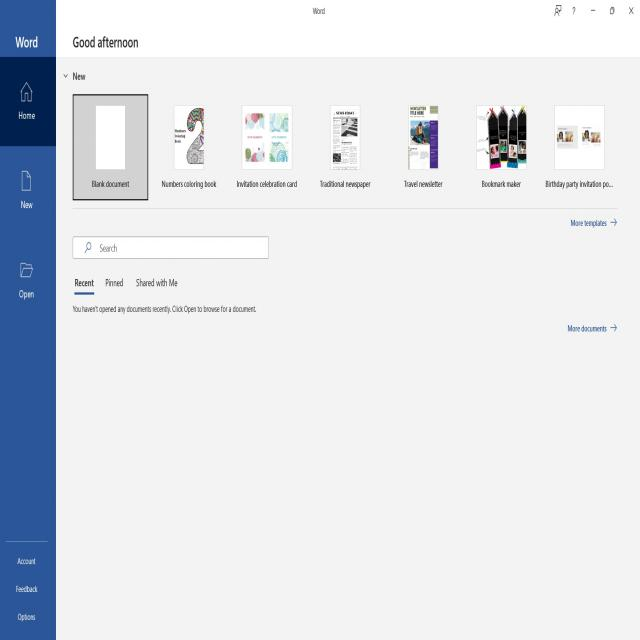button: (540, 92, 622, 200), (309, 94, 389, 201), (460, 92, 538, 201), (73, 92, 148, 200), (152, 94, 228, 200), (233, 94, 307, 200), (391, 91, 460, 200), (0, 236, 55, 336), (0, 56, 56, 146), (0, 146, 55, 236), (1, 572, 56, 603), (1, 542, 56, 573), (1, 603, 57, 629), (134, 271, 182, 294), (60, 61, 94, 87), (100, 271, 130, 294), (71, 267, 96, 292), (582, 0, 602, 24), (603, 2, 621, 26), (622, 2, 640, 24), (552, 0, 566, 24), (566, 0, 580, 23)
field: (74, 236, 268, 258)
